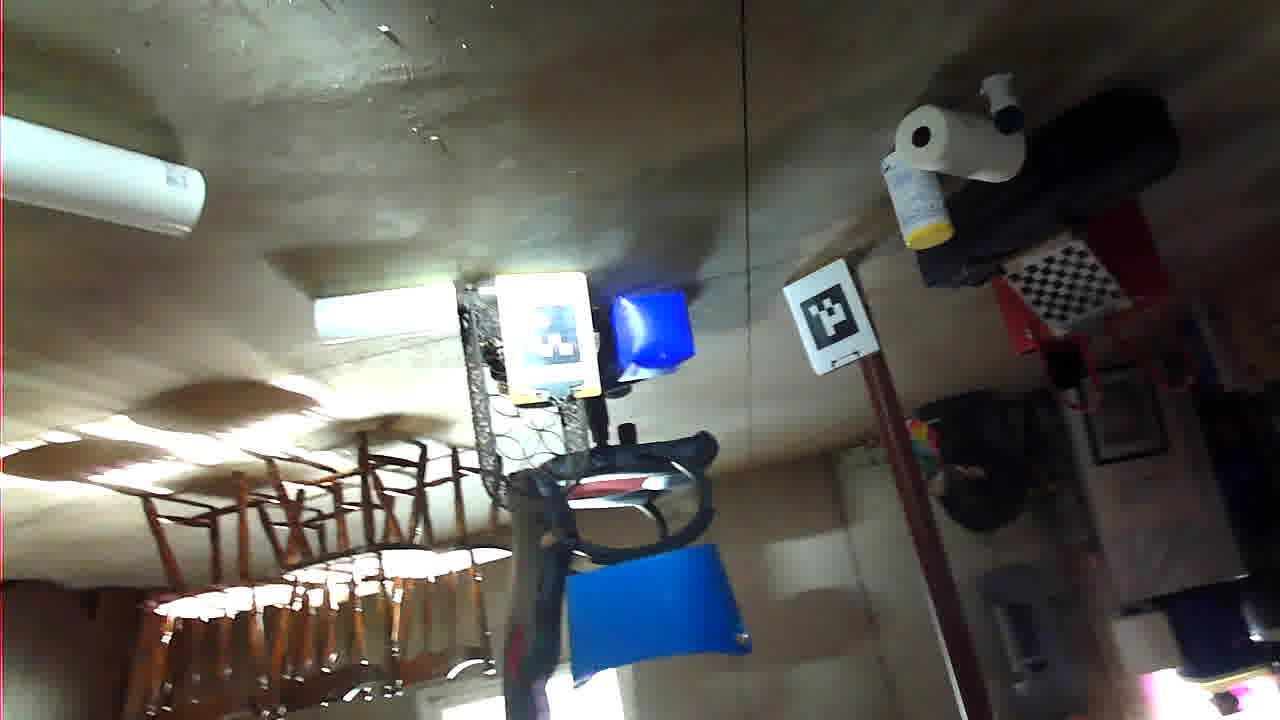coral: (1077, 479, 1280, 609), (823, 384, 966, 437)
